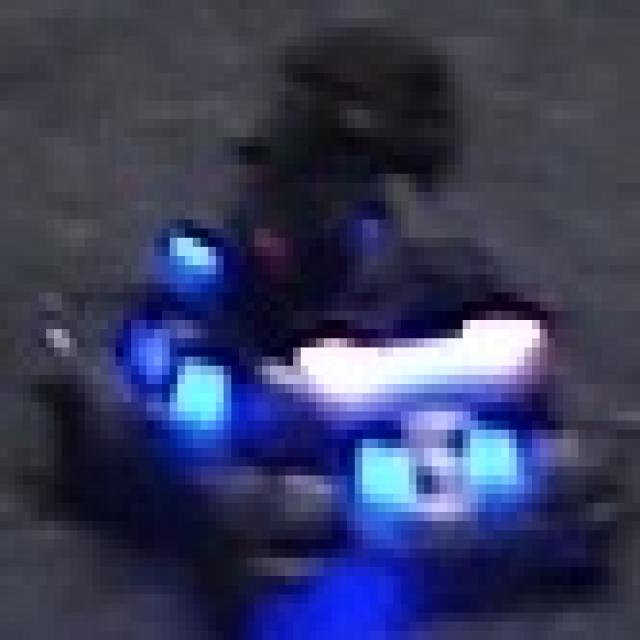B5: (355, 402, 524, 521)
